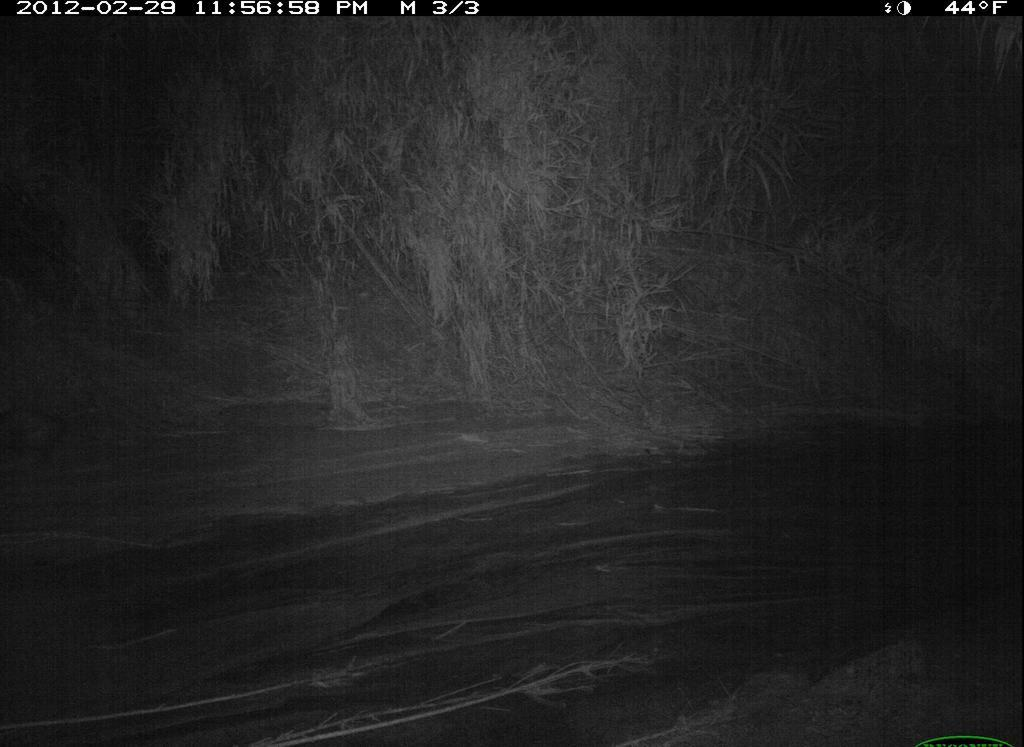opossum: (1, 396, 111, 461)
